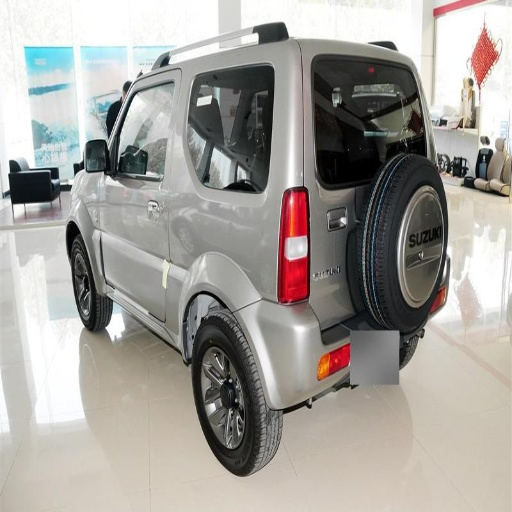back_bumper: (250, 306, 327, 404)
back_glass: (191, 67, 270, 165), (316, 57, 399, 110)
back_left_door: (148, 76, 176, 177)
front_right_door: (136, 201, 168, 322)
trunk: (313, 189, 356, 279), (218, 225, 263, 294)
